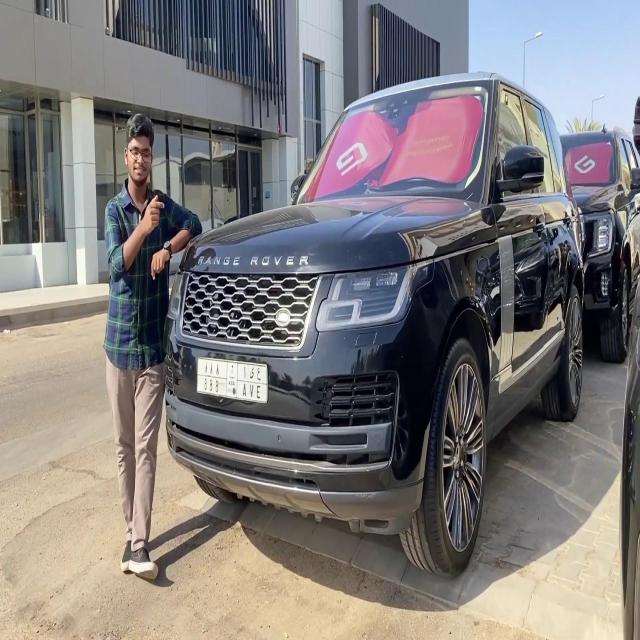license_plate: (192, 349, 270, 410)
